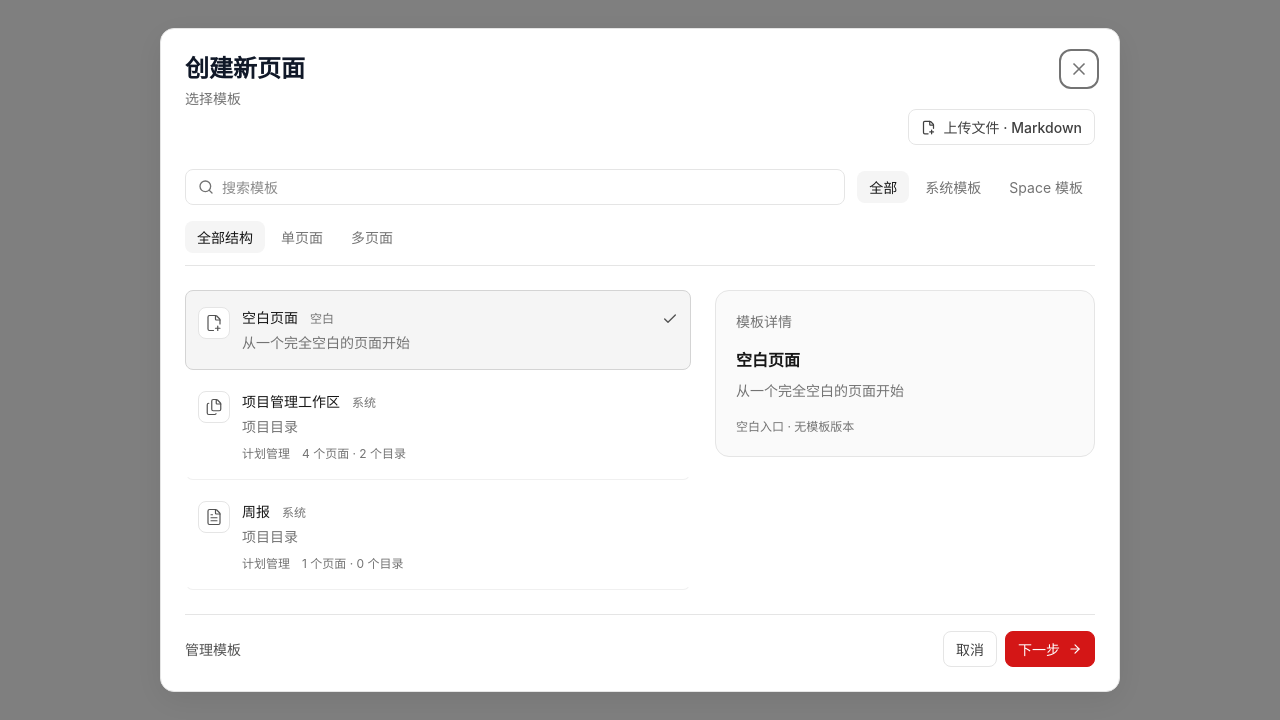
Test: NewPageDialog composite flow › keeps async preview results active across the StrictMode setup-cleanup-setup cycle
The width and height of the screenshot is (1280, 720).
Click the button "项目管理工作区 系统 项目目录 计划管理 4 个页面 · 2 个目录" at [214, 407], box [185,374,691,480]
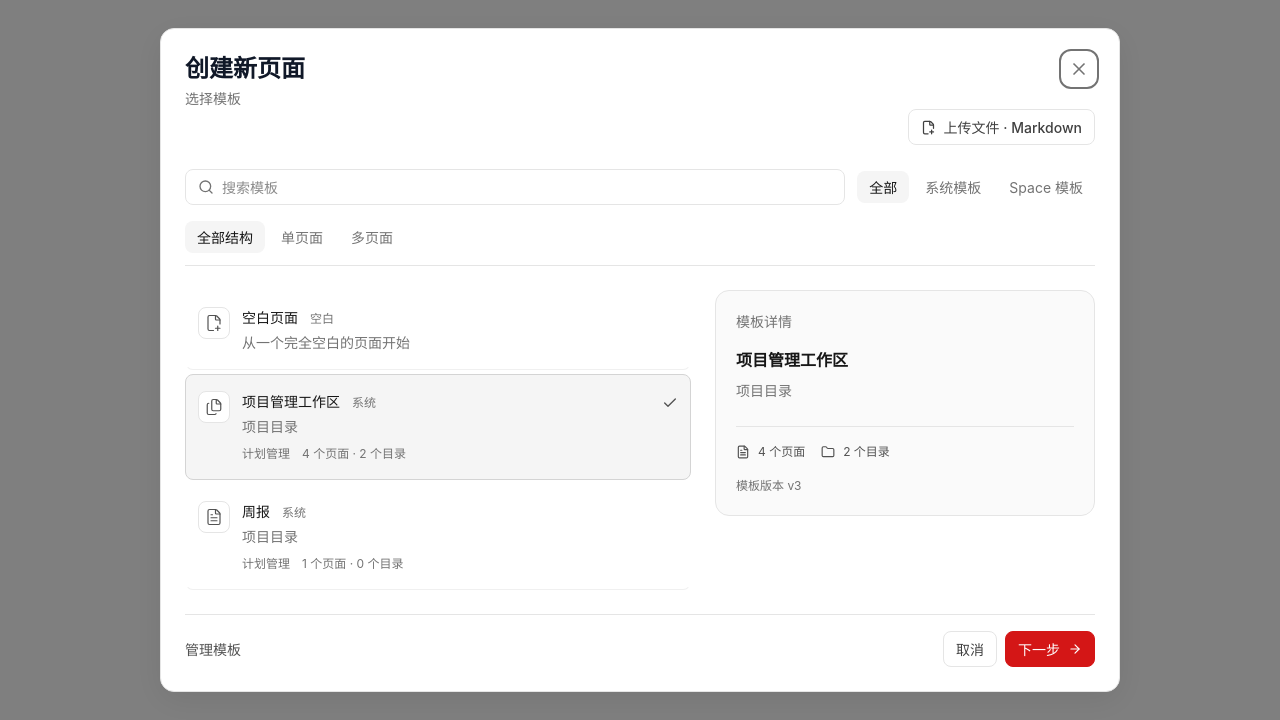
Click the button "下一步" at [1050, 649], box [1005,631,1095,667]
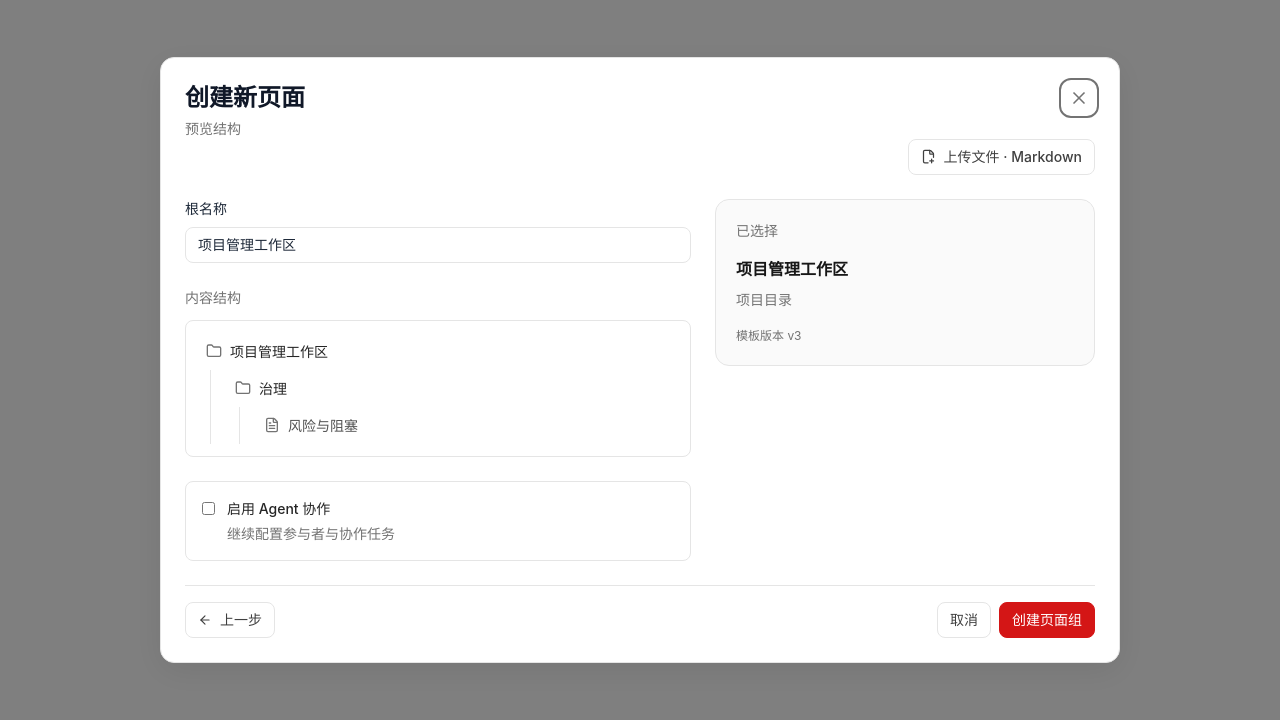
Result: the text "风险与阻塞" is shown at [288,415,358,436]
